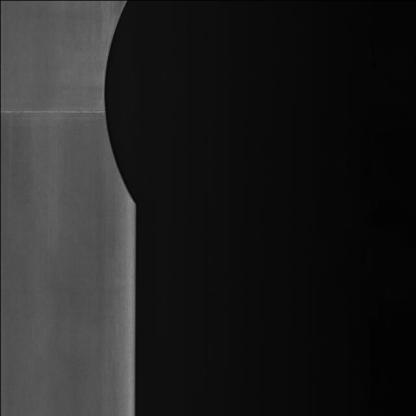crescent_gap: (92, 0, 147, 224)
welding_line: (1, 98, 109, 128)
